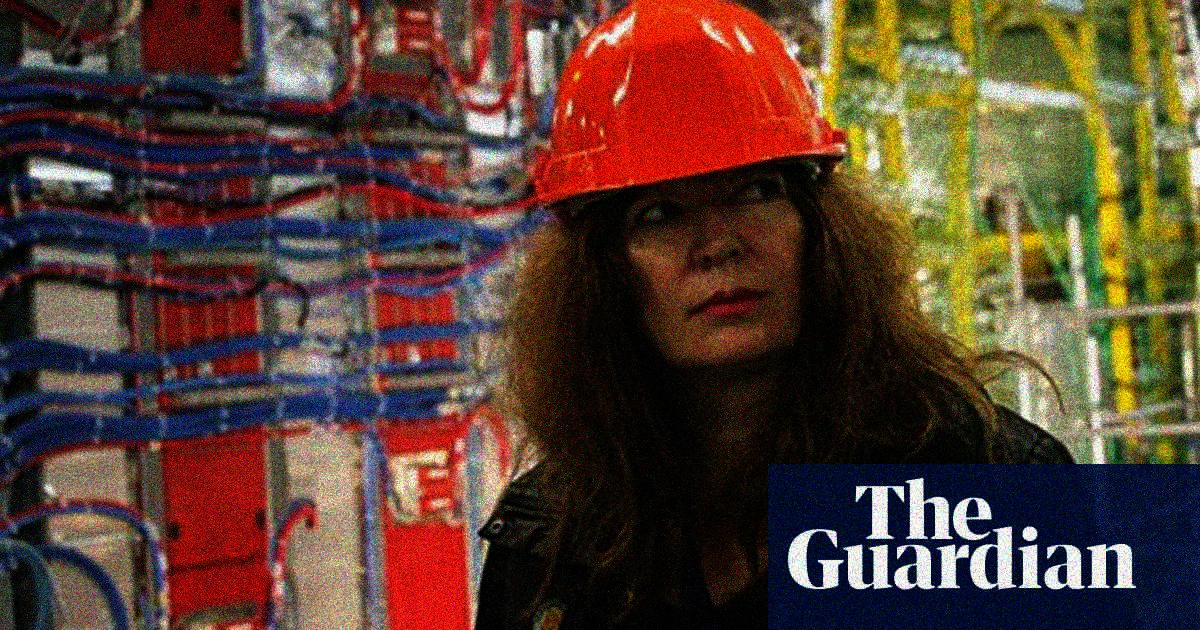helmet: (524, 1, 853, 376)
